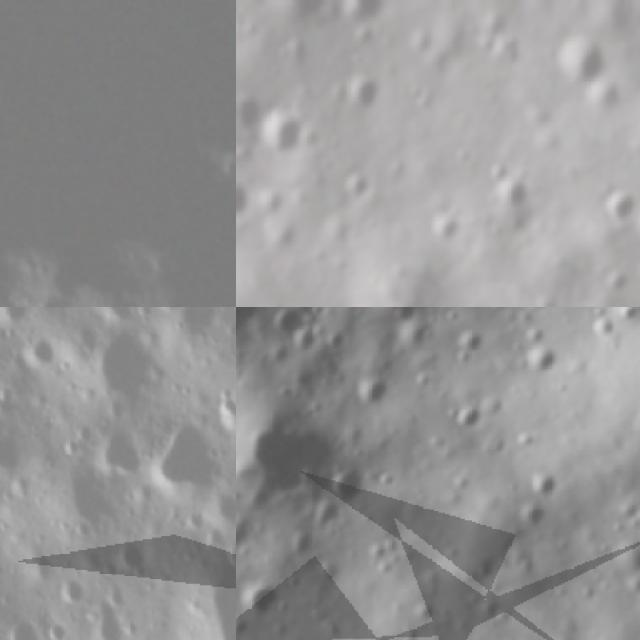crater: (236, 404, 352, 523), (143, 416, 235, 508), (84, 320, 162, 409), (43, 462, 120, 542), (171, 553, 236, 640), (543, 28, 611, 92), (256, 97, 315, 163), (90, 416, 148, 482), (578, 68, 628, 130), (586, 181, 640, 230), (331, 459, 377, 516), (267, 307, 311, 363), (440, 388, 488, 439), (484, 168, 533, 217), (240, 580, 288, 628), (349, 368, 398, 413), (520, 335, 567, 381), (338, 0, 397, 34), (422, 206, 463, 249), (236, 0, 258, 77), (21, 328, 62, 369), (594, 262, 635, 300), (517, 503, 560, 539), (116, 536, 154, 576), (338, 166, 373, 209), (0, 307, 44, 340), (536, 466, 576, 502), (55, 571, 91, 607), (0, 612, 46, 640), (210, 483, 236, 532), (236, 173, 258, 224), (332, 0, 432, 11), (212, 390, 236, 432), (38, 615, 75, 640), (222, 536, 236, 573)
